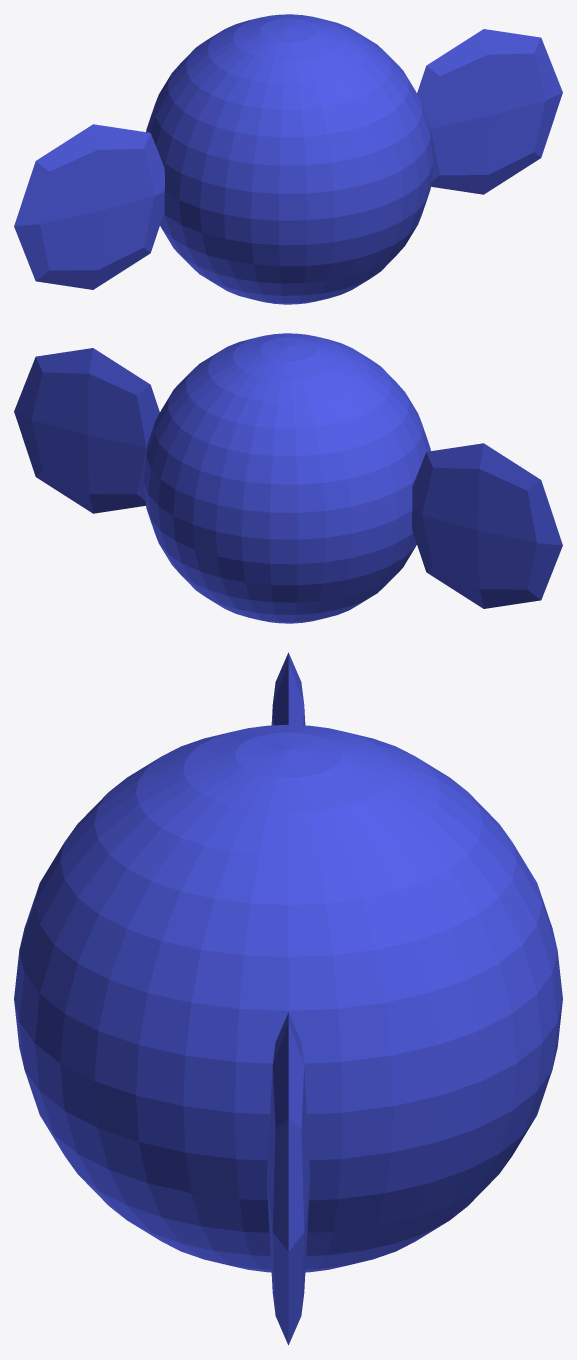
File: buddy-mock.fbx
The picture shows the model from 3 angles, top to bottom: view 1: azimuth 30°, elevation 25°; view 2: azimuth 150°, elevation 25°; view 3: azimuth 270°, elevation 25°; orthographic projection. The views are drawn at different scales.
Visible parts, largest first — view 1: Sphere, Cube; view 2: Sphere, Cube; view 3: Sphere, Cube.
Part boxes in pixels (box(x1,y1,x2,y2)): Sphere: box(146, 14, 433, 304); Cube: box(14, 29, 562, 289); Sphere: box(143, 333, 430, 623); Cube: box(14, 348, 562, 608); Sphere: box(14, 724, 562, 1272); Cube: box(266, 652, 310, 1345).
Size of the model in its own units: 0.8727 by 0.4 by 0.4.
